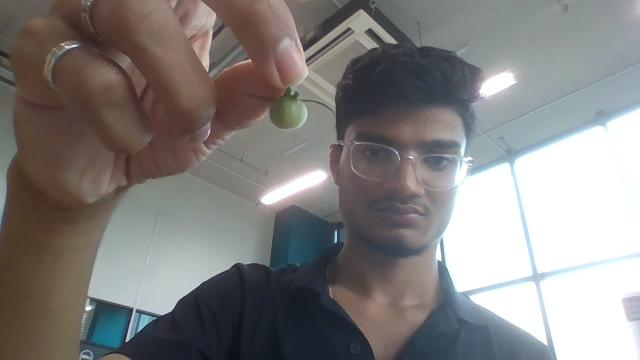Fruit Maturation: (268, 90, 307, 130)
